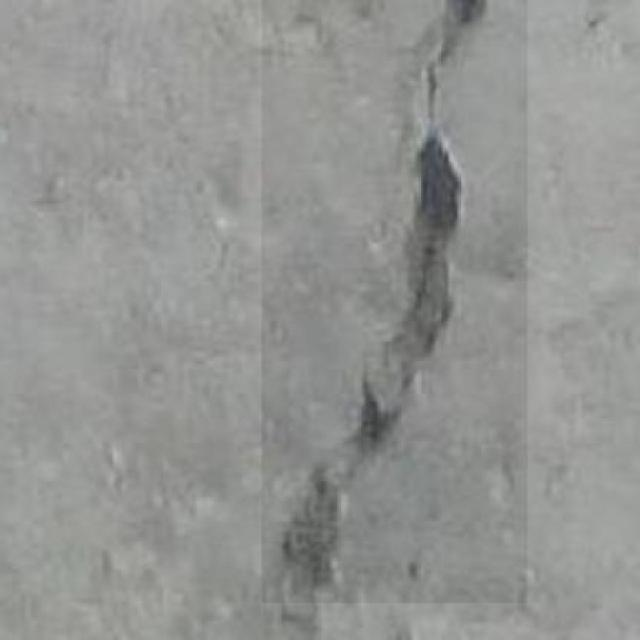Crack: (271, 0, 526, 613)
